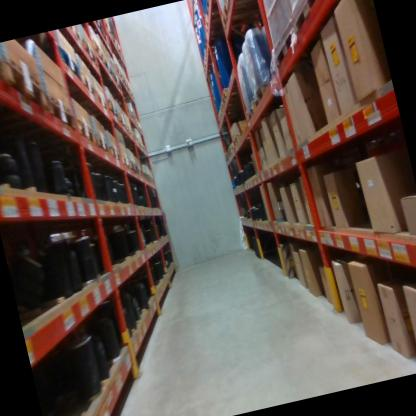pallet: (0, 49, 53, 124), (264, 17, 303, 74), (217, 0, 275, 34), (46, 43, 84, 87), (288, 0, 337, 31), (45, 90, 77, 133), (248, 81, 284, 107), (202, 12, 235, 37), (75, 117, 98, 148), (56, 25, 85, 46), (200, 44, 225, 68), (219, 85, 246, 106), (240, 103, 262, 128), (230, 129, 254, 151), (91, 87, 110, 114), (92, 41, 109, 71), (80, 70, 96, 100), (203, 0, 228, 19), (201, 33, 226, 52), (85, 38, 100, 66), (106, 145, 123, 168), (96, 133, 111, 157), (107, 95, 120, 119), (118, 151, 133, 170), (225, 0, 257, 7), (216, 109, 224, 126), (218, 102, 227, 117), (225, 146, 233, 160), (228, 142, 235, 156)
